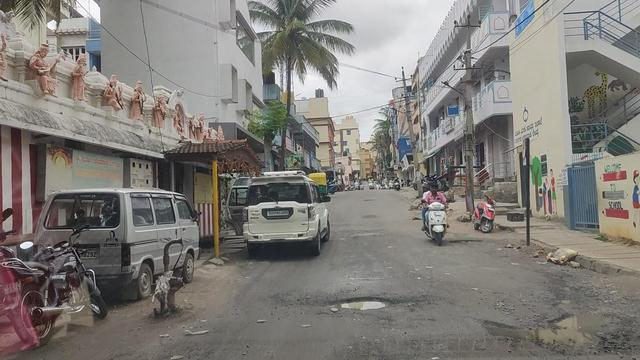LMV: (422, 190, 451, 242)
RoadDamages: (491, 311, 627, 360), (302, 294, 410, 316), (454, 236, 493, 246)
